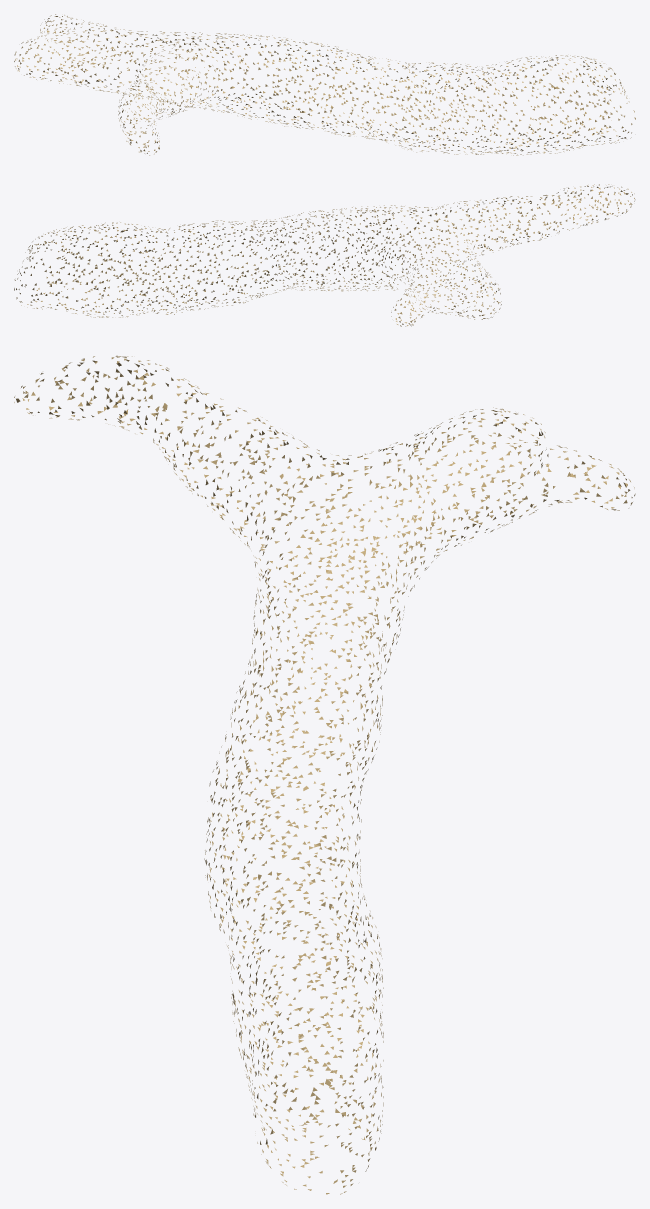
Rendered from morph_007.glb.
3 renders of one model, top to bottom at view 1: azimuth 30°, elevation 25°; view 2: azimuth 150°, elevation 25°; view 3: azimuth 270°, elevation 25°, orthographic. The views are drawn at different scales.
Bounding box in the file's own units: 156 × 56.5 × 84.38.
